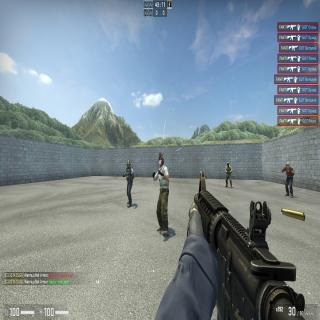CT-Body: (125, 160, 133, 208), (225, 160, 231, 188)
CT-Head: (126, 160, 130, 168), (227, 162, 230, 168)
T-Body: (283, 161, 294, 195)
T-Head: (286, 161, 290, 169)
